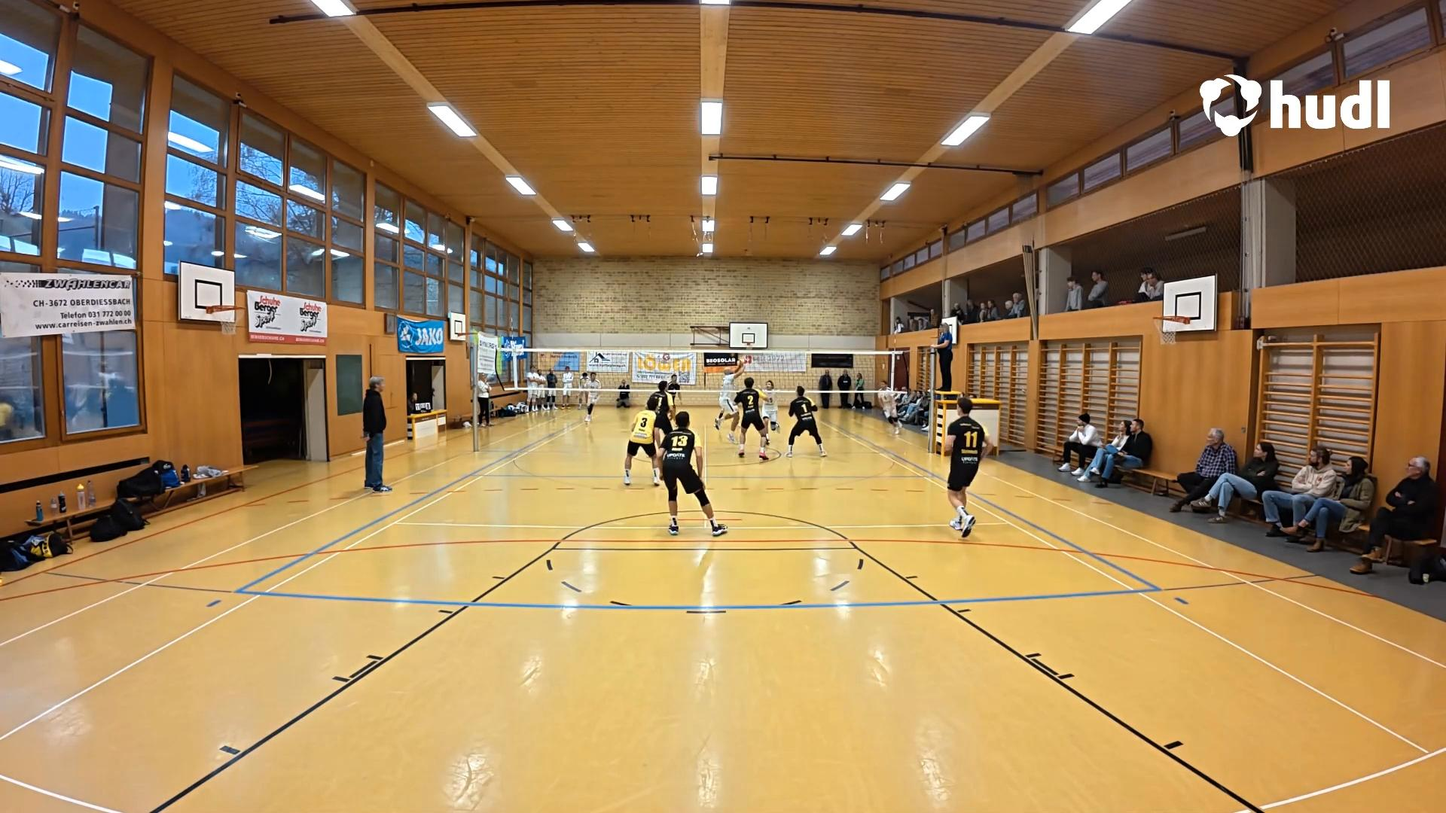Player: (655, 416, 722, 534), (936, 400, 988, 534), (621, 392, 661, 487), (777, 385, 824, 458), (734, 379, 774, 460), (643, 375, 677, 439), (757, 378, 785, 449), (879, 378, 902, 430), (662, 368, 685, 416), (581, 377, 602, 428)
Set: (709, 349, 751, 428)
ball: (736, 355, 749, 367)
